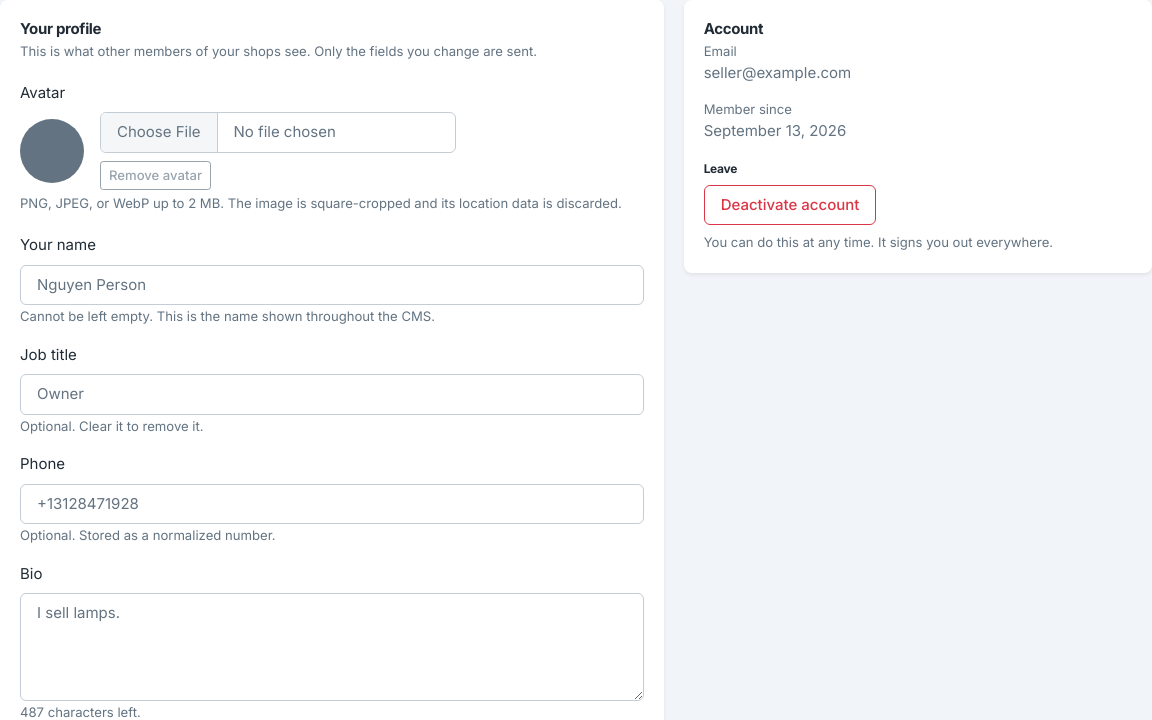
it: profile form › abandons the deactivation without sending anything
This screenshot has width=1152, height=720.
What coordinates should you click on to do the following:
click the button "Deactivate account"
I would click on:
 (790, 205)
Its box is [704,185,876,225].
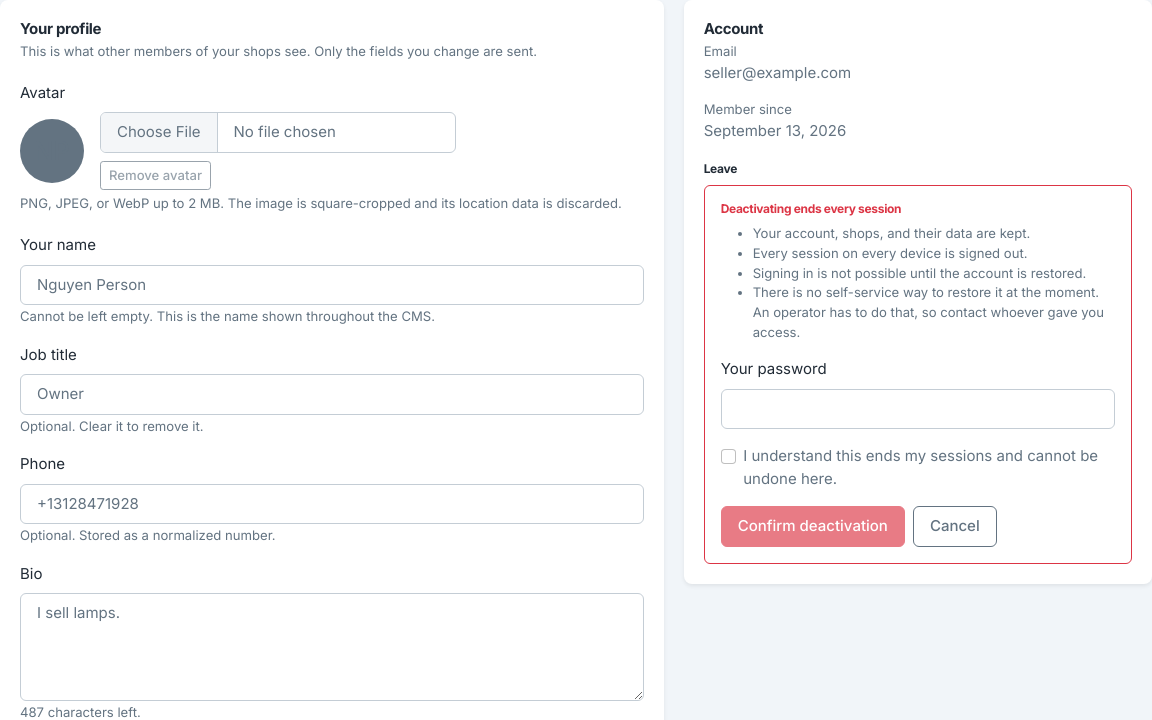
What coordinates should you click on to do the following:
click the button "Cancel"
I would click on:
 (955, 527)
Its box is [913,506,997,547].
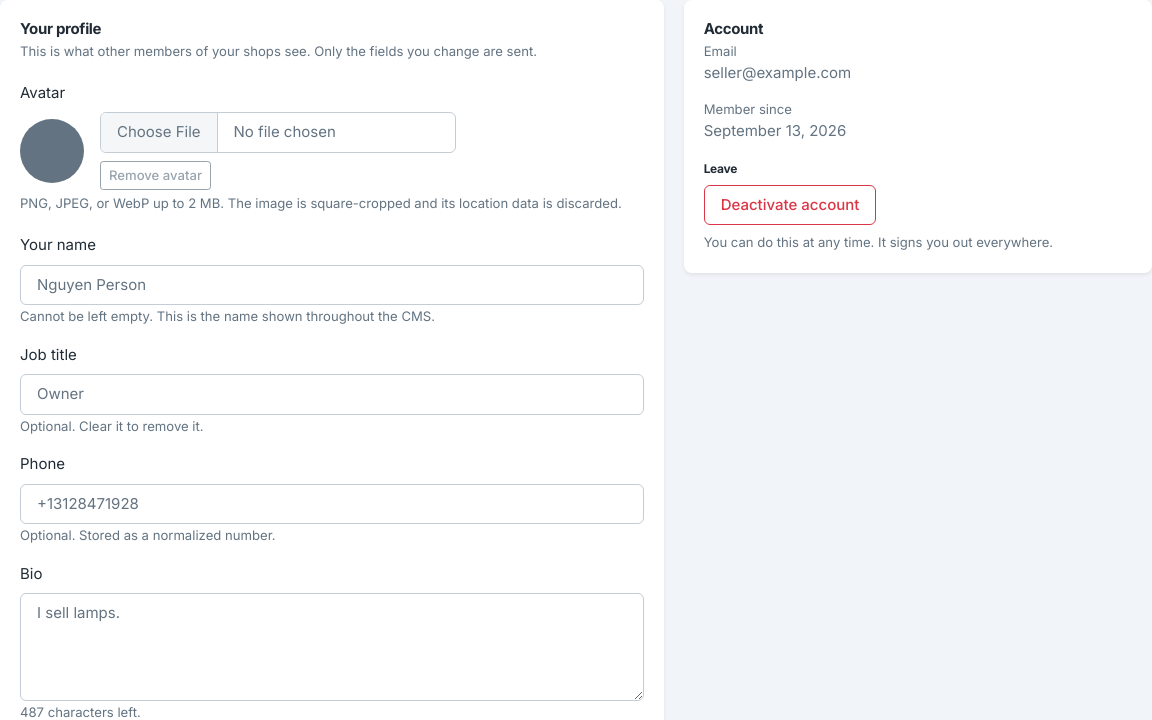
Result: the button "Deactivate account" is shown at [704,185,876,225]
